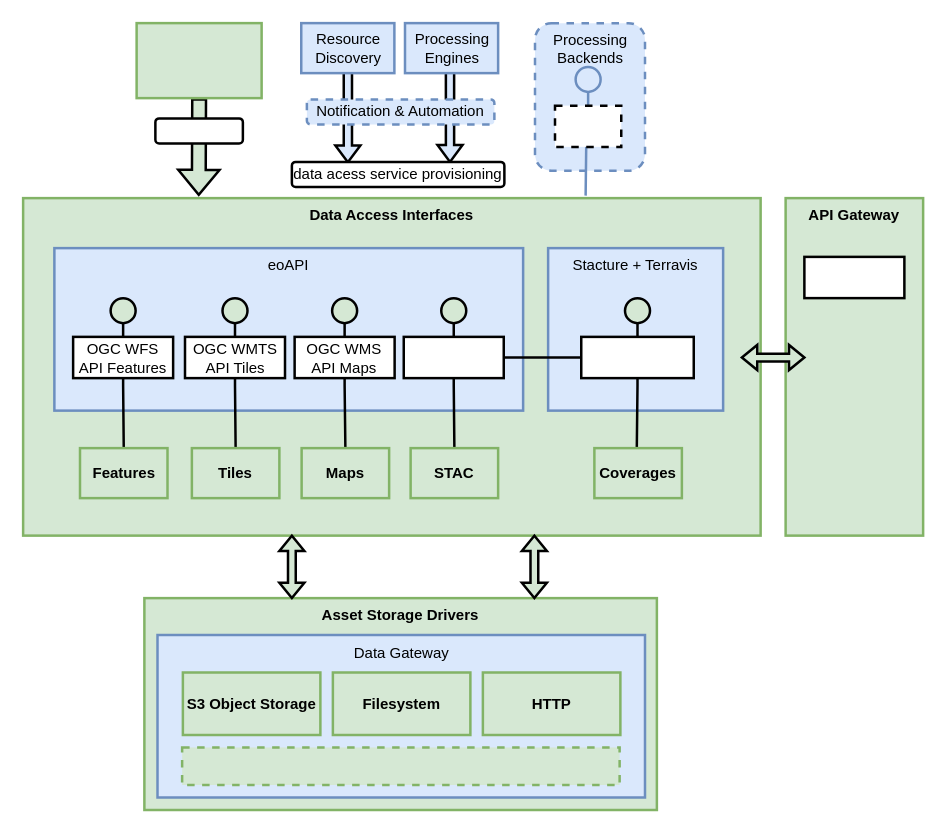
Some shapes in this 945 by 833 pixel diagram are drawn without their labels. Each missing label, with the centre of its shape:
"administration" belongs at pixel 199 130.
"Authorization" belongs at pixel 853 277.
"Data Access UI" belongs at pixel 198 60.
"OGC WCS API Coverages" belongs at pixel 636 357.
"openEO API" belongs at pixel 587 126.
"Others..." belongs at pixel 400 766.
"STAC API" belongs at pixel 453 357.
